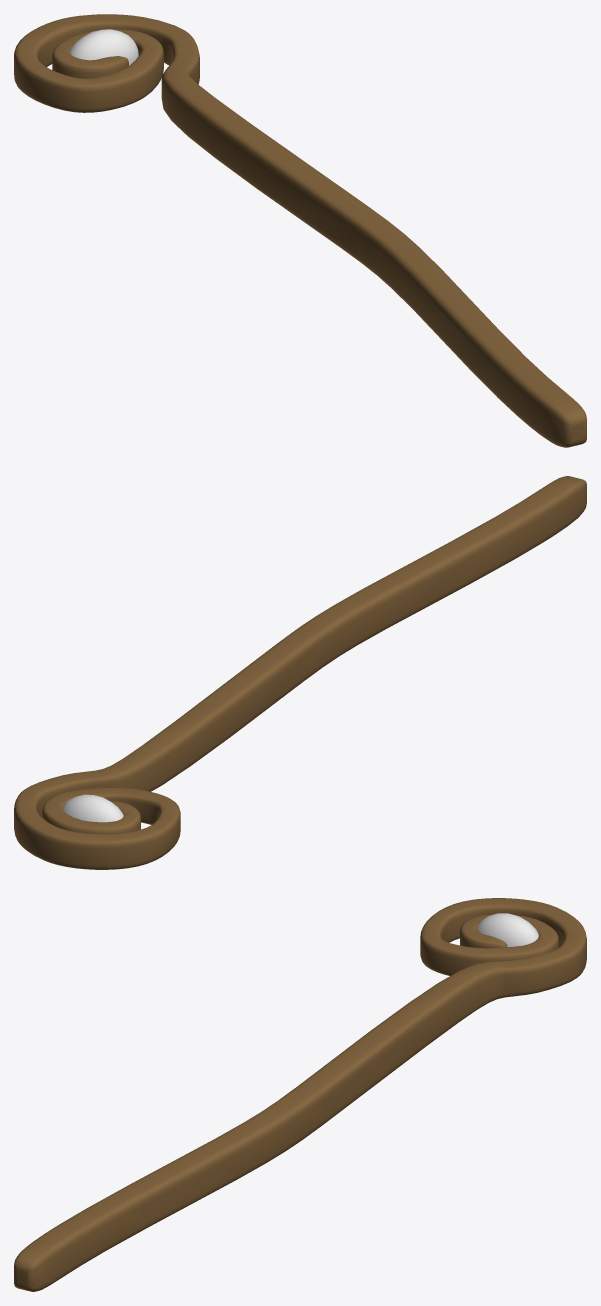
3 views of the same model, one above another, from view 1: azimuth 30°, elevation 25°; view 2: azimuth 150°, elevation 25°; view 3: azimuth 330°, elevation 25° (orthographic). The views are drawn at different scales.
Parts seen in each view (by area): view 1: 93; view 2: 93; view 3: 93.
Boxes of the visible parts, x1=… form: 93: x1=14, y1=14, x2=586, y2=447; 93: x1=14, y1=476, x2=586, y2=869; 93: x1=14, y1=898, x2=586, y2=1291.
Bounding box in the file's own units: 14.41 × 5.11 × 84.14.
